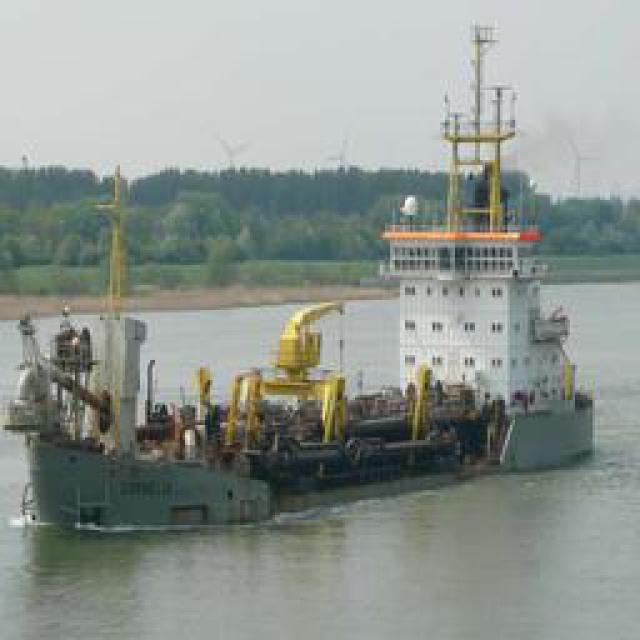Ship: (8, 146, 603, 545)
